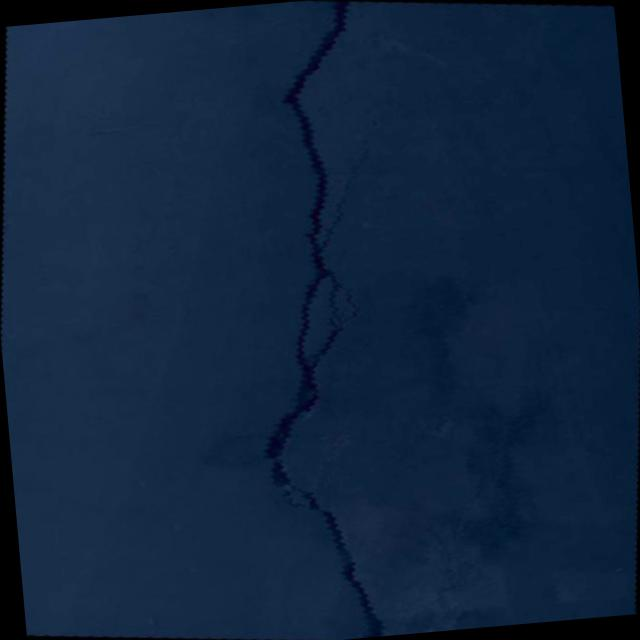crack: (204, 0, 449, 640)
